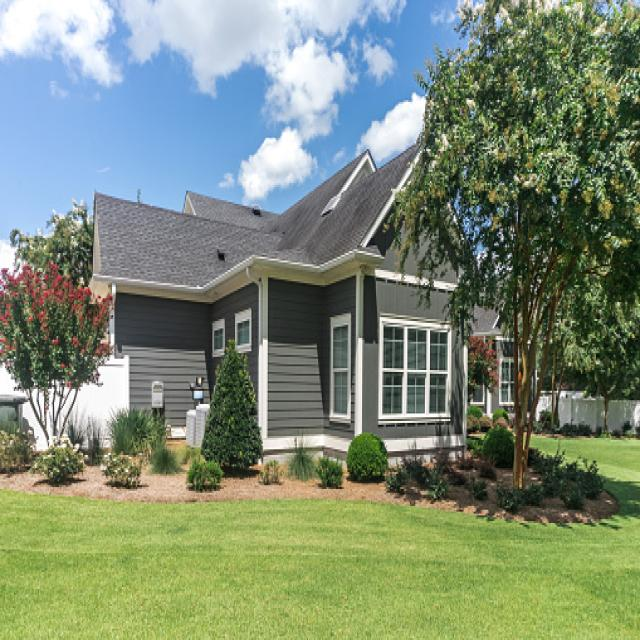building: (84, 137, 489, 490)
